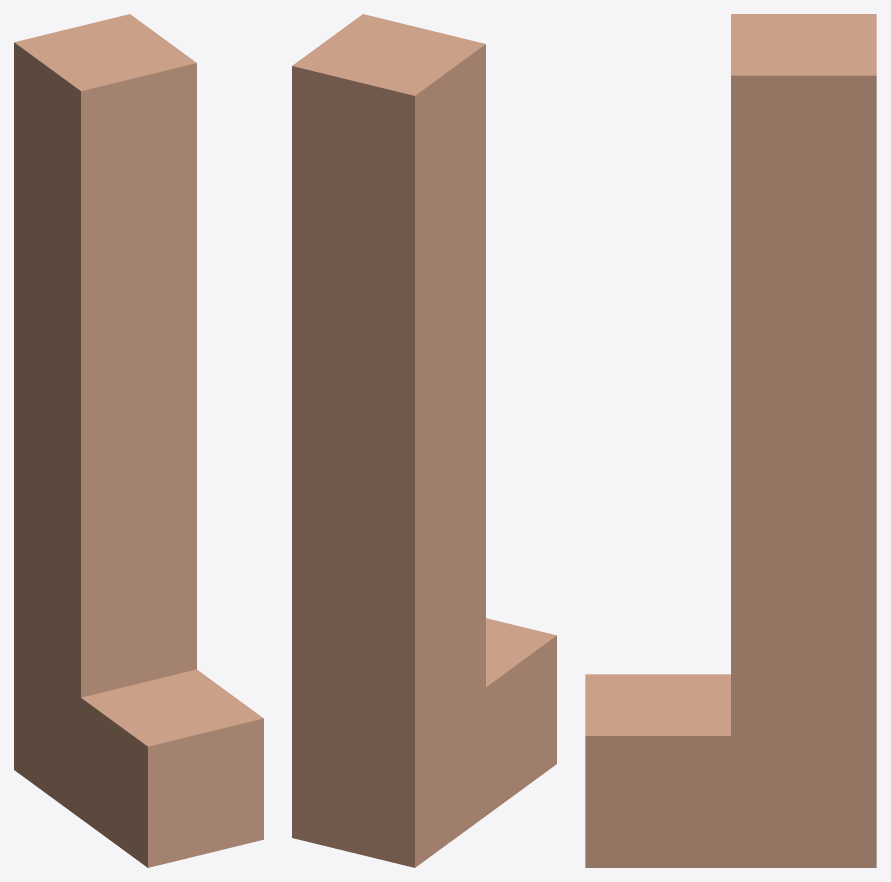
Rendered from voxperson_shin_l.fbx.
3 renders of one model, left to right at view 1: azimuth 30°, elevation 25°; view 2: azimuth 150°, elevation 25°; view 3: azimuth 270°, elevation 25°, orthographic. The views are drawn at different scales.
Visible parts, largest first — view 1: Matrix_10; view 2: Matrix_10; view 3: Matrix_10.
Boxes of the visible parts, x1,y1,x2,y2 form: Matrix_10: [14, 14, 263, 867]; Matrix_10: [292, 14, 556, 867]; Matrix_10: [585, 14, 876, 867].
Size of the model in its own units: 1 by 6 by 2.
